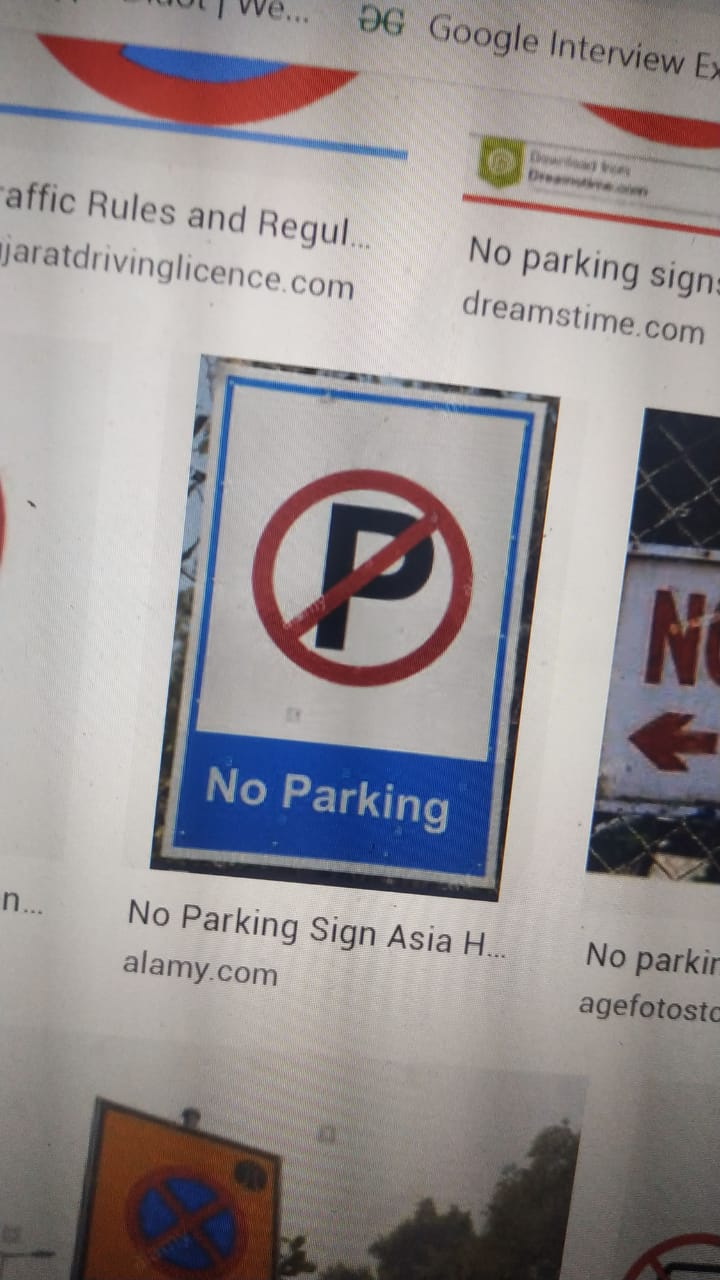NO PARKING: (250, 391, 504, 704)
